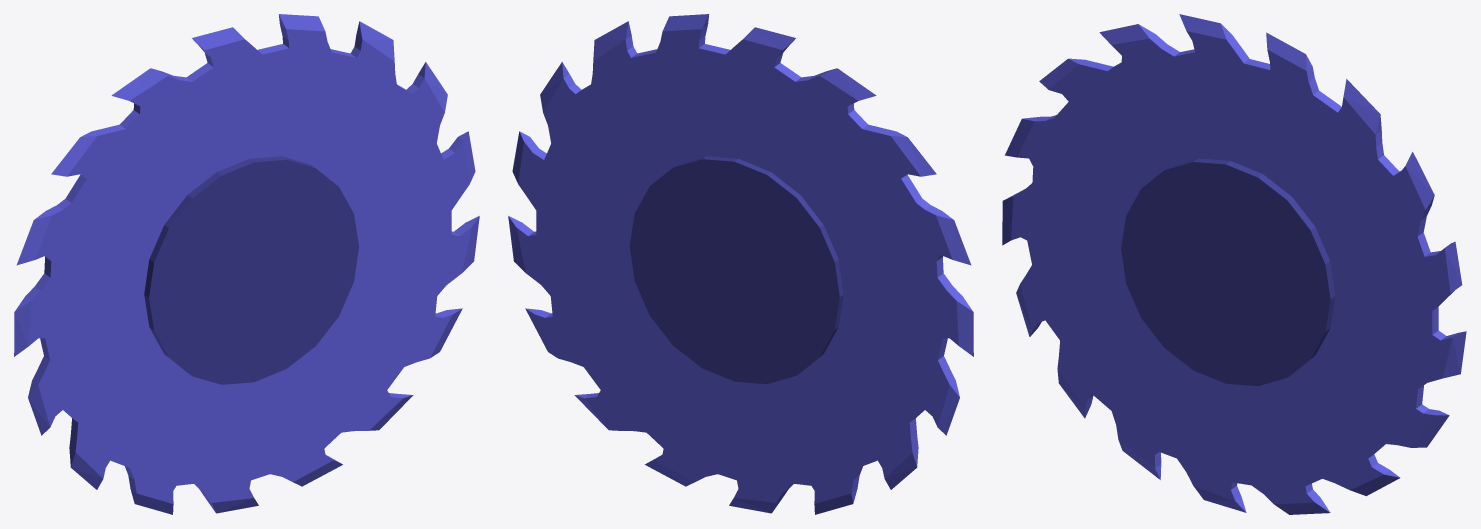
Rendered from Saw.fbx.
3 views of the same model, side by side, from view 1: azimuth 30°, elevation 25°; view 2: azimuth 150°, elevation 25°; view 3: azimuth 330°, elevation 25° (orthographic).
Visible parts, largest first — view 1: pCylinder3; view 2: pCylinder3; view 3: pCylinder3.
Part boxes in pixels (<box>): pCylinder3: <box>14,14,479,514</box>; pCylinder3: <box>508,14,973,514</box>; pCylinder3: <box>1002,14,1466,514</box>.
Bounding box in the file's own units: 8.8 × 8.79 × 0.49.
